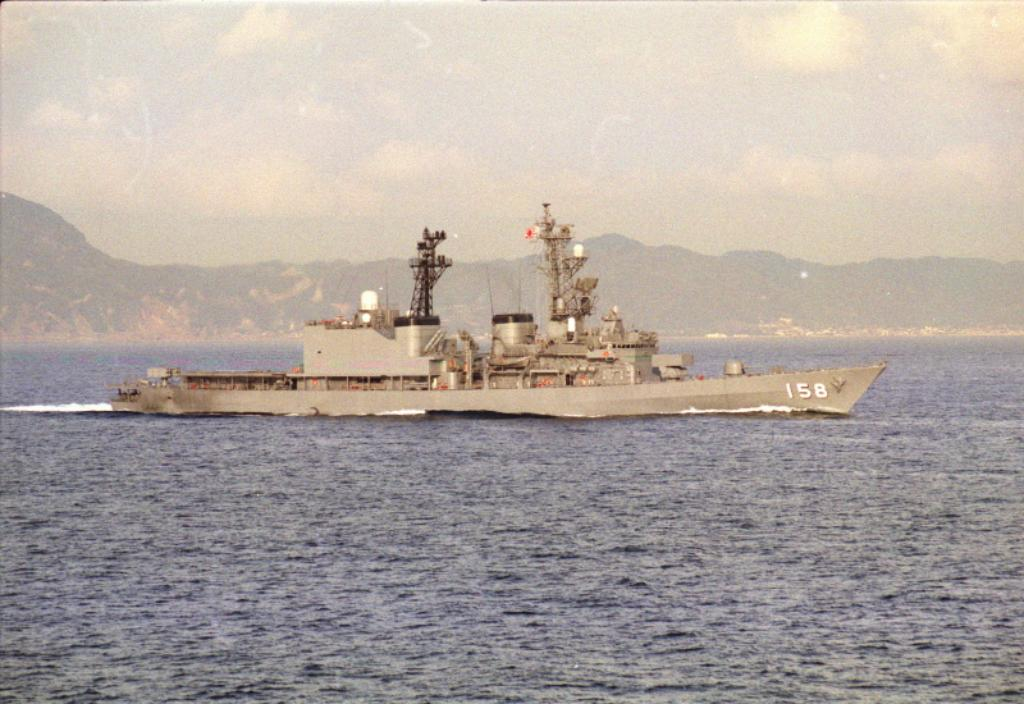Warship: (100, 194, 894, 424)
